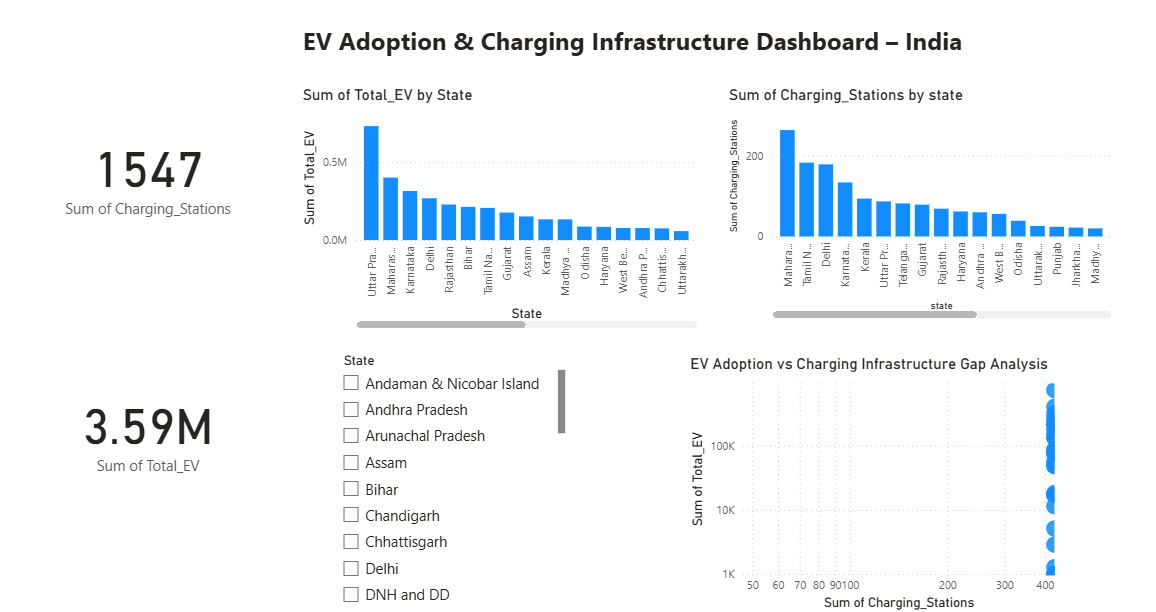

The dashboard page shown, as its layout file describes it:
{"tool":"powerbi","page":{"name":"Page 1","canvas":[1280,720],"ordinal":0},"visuals":[{"type":"card","fields":{"Values":["Sum(Charging_Summary.Charging_Stations)"]},"box":[26.1,96.1,279.9,279.9],"z":0},{"type":"card","fields":{"Values":["Sum(EV_Summary.Total_EV)"]},"box":[26.1,378.7,279.9,279.9],"z":1},{"type":"columnChart","fields":{"Category":["EV_Summary.State"],"Y":["Sum(EV_Summary.Total_EV)"]},"box":[330.7,140,443.2,271.7],"z":2},{"type":"columnChart","fields":{"Category":["Charging_Summary.state"],"Y":["Sum(Charging_Summary.Charging_Stations)"]},"box":[798.6,140,429.5,260.7],"z":3},{"type":"slicer","fields":{"Values":["EV_Summary.State"]},"box":[367.8,428.1,260.7,292.3],"z":4},{"type":"textbox","box":[330.7,67.2,756.1,57.6],"z":5},{"type":"scatterChart","title":"EV Adoption vs Charging Infrastructure Gap Analysis","fields":{"X":["Sum(Charging_Summary.Charging_Stations)"],"Y":["Sum(EV_Summary.Total_EV)"],"Category":["EV_Summary.State"]},"box":[672.4,435,503.6,285.4],"z":6}]}

Visuals, with their boxes on the page's 1280x720 design canvas (x1, y1, x2, y2). These are canvas units, not pixel positions in the 1156x612 screenshot, which may show the page scaled, cropped or inside an application window:
card - Sum(Charging_Summary.Charging_Stations): l=26, t=96, r=306, b=376
card - Sum(EV_Summary.Total_EV): l=26, t=379, r=306, b=659
columnChart - EV_Summary.State x Sum(EV_Summary.Total_EV): l=331, t=140, r=774, b=412
columnChart - Charging_Summary.state x Sum(Charging_Summary.Charging_Stations): l=799, t=140, r=1228, b=401
slicer - EV_Summary.State: l=368, t=428, r=628, b=720
textbox: l=331, t=67, r=1087, b=125
"EV Adoption vs Charging Infrastructure Gap Analysis" scatterChart: l=672, t=435, r=1176, b=720
